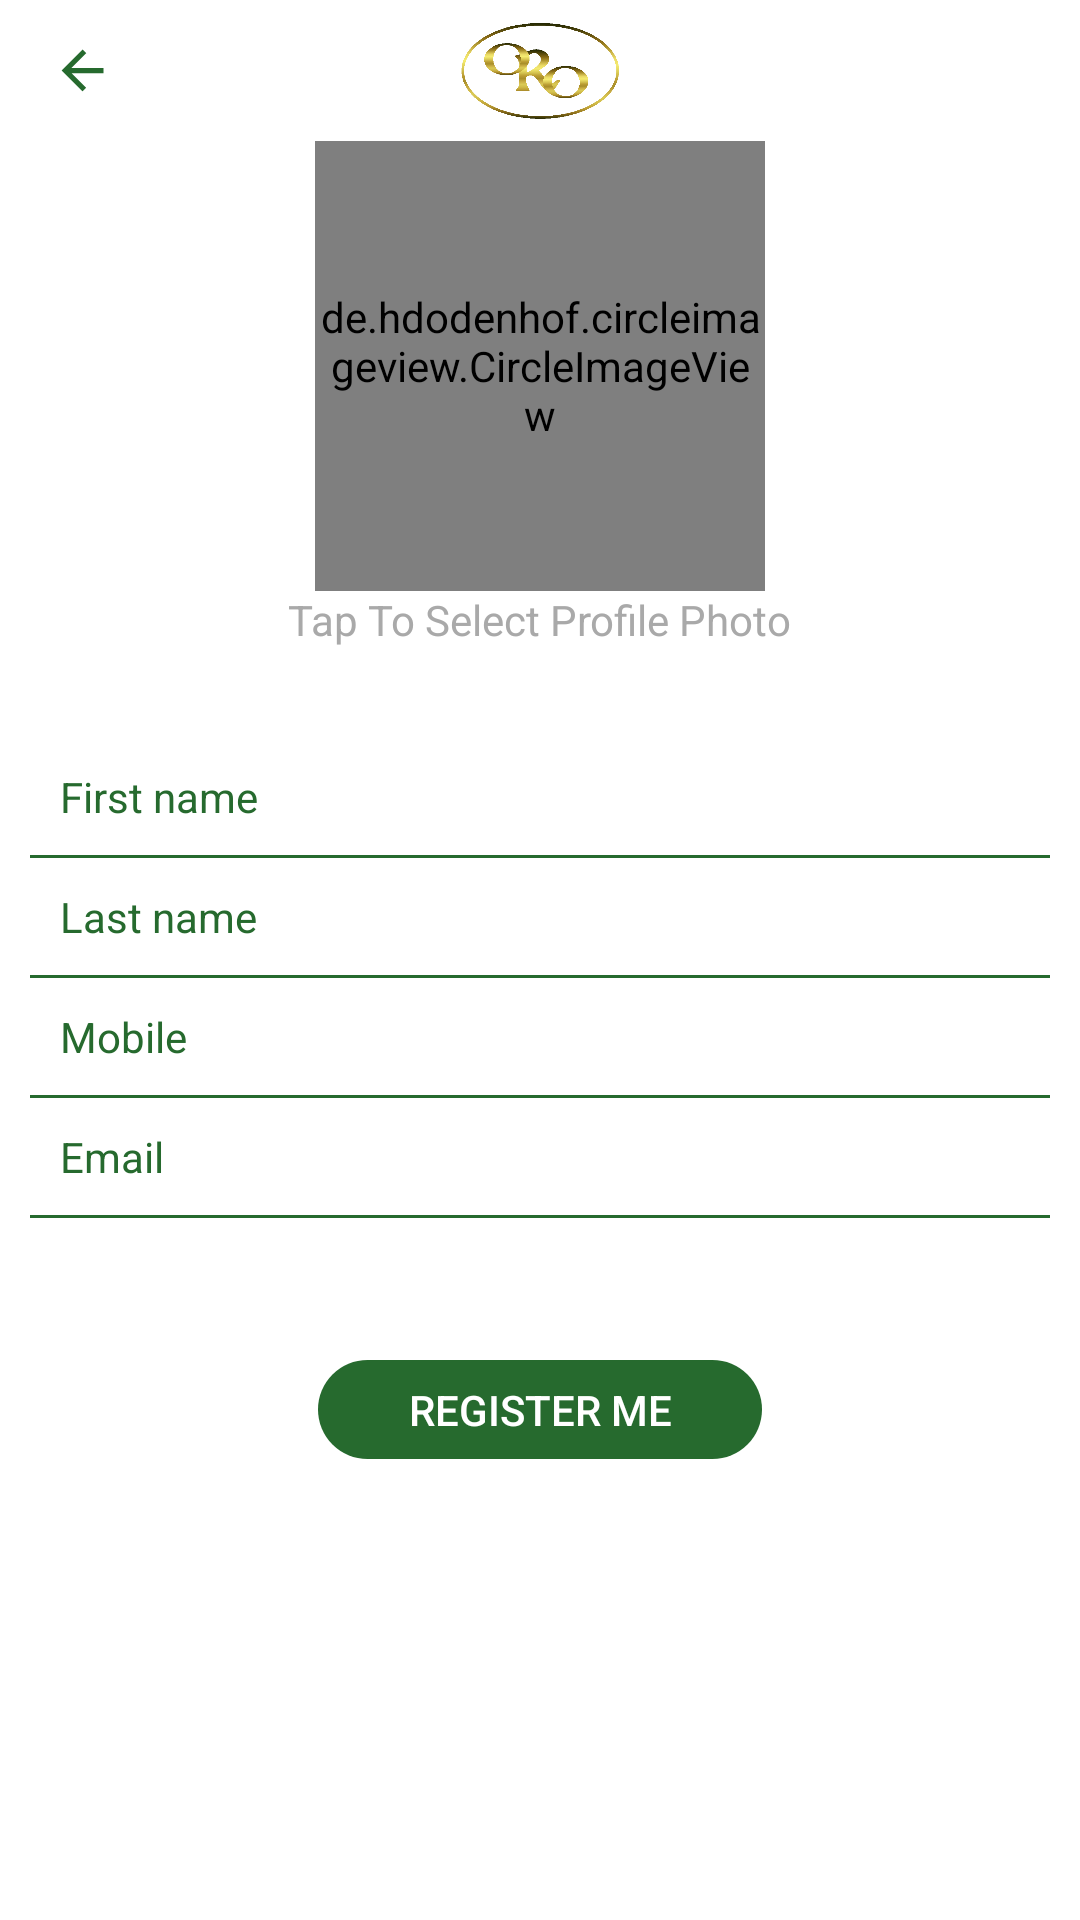

Named icons in this screenshot (1080px×1920px) and their centers, point (x, y):
arrow back: point (82, 70)
